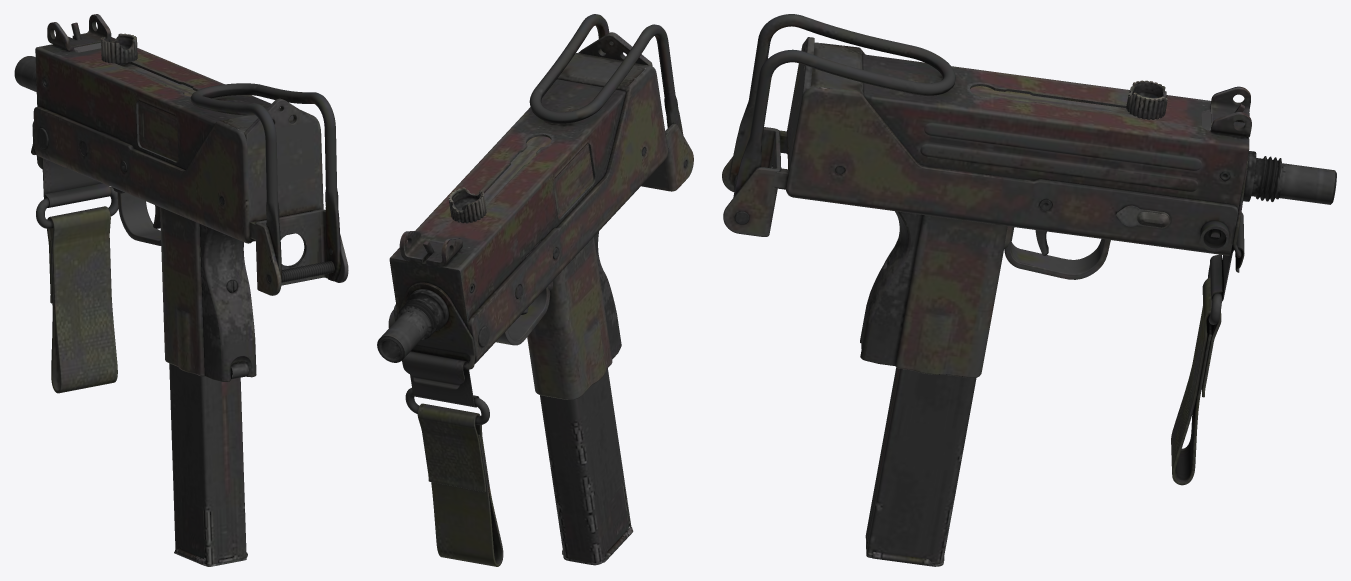
Rendered from p_mac10.glb.
The picture shows the model from 3 angles, left to right: view 1: azimuth 30°, elevation 25°; view 2: azimuth 150°, elevation 25°; view 3: azimuth 270°, elevation 25°; orthographic projection. The views are drawn at different scales.
Parts seen in each view (by area): view 1: p_mac10; view 2: p_mac10; view 3: p_mac10.
Part boxes in pixels (x1,y1,x2,y2): p_mac10: [14, 14, 348, 566]; p_mac10: [377, 14, 693, 566]; p_mac10: [722, 14, 1336, 566].
Size of the model in its own units: 0.0831 by 0.4022 by 0.4138.
Materials: 1 (1 with a texture image).
